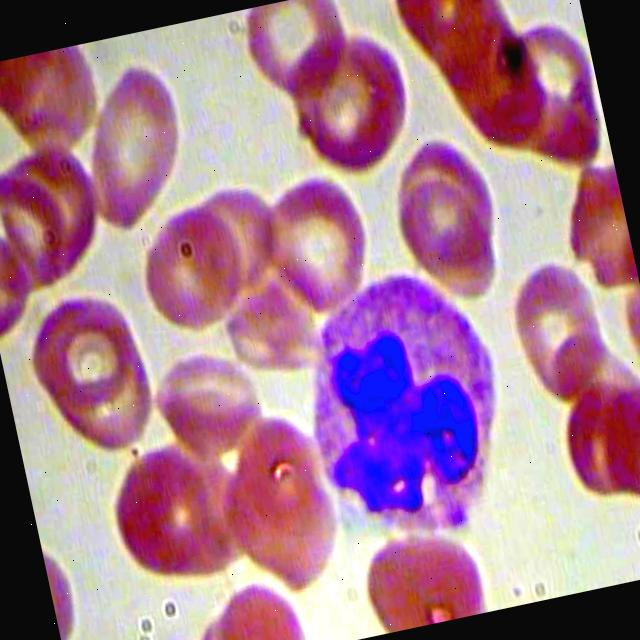RBC: (55, 52, 201, 244), (270, 11, 426, 188), (250, 164, 388, 328), (492, 246, 622, 416), (21, 286, 154, 430), (389, 160, 509, 312), (351, 516, 501, 636), (124, 198, 250, 340), (144, 337, 276, 462), (233, 0, 359, 109), (0, 140, 79, 309)
WBC: (276, 253, 533, 564)
